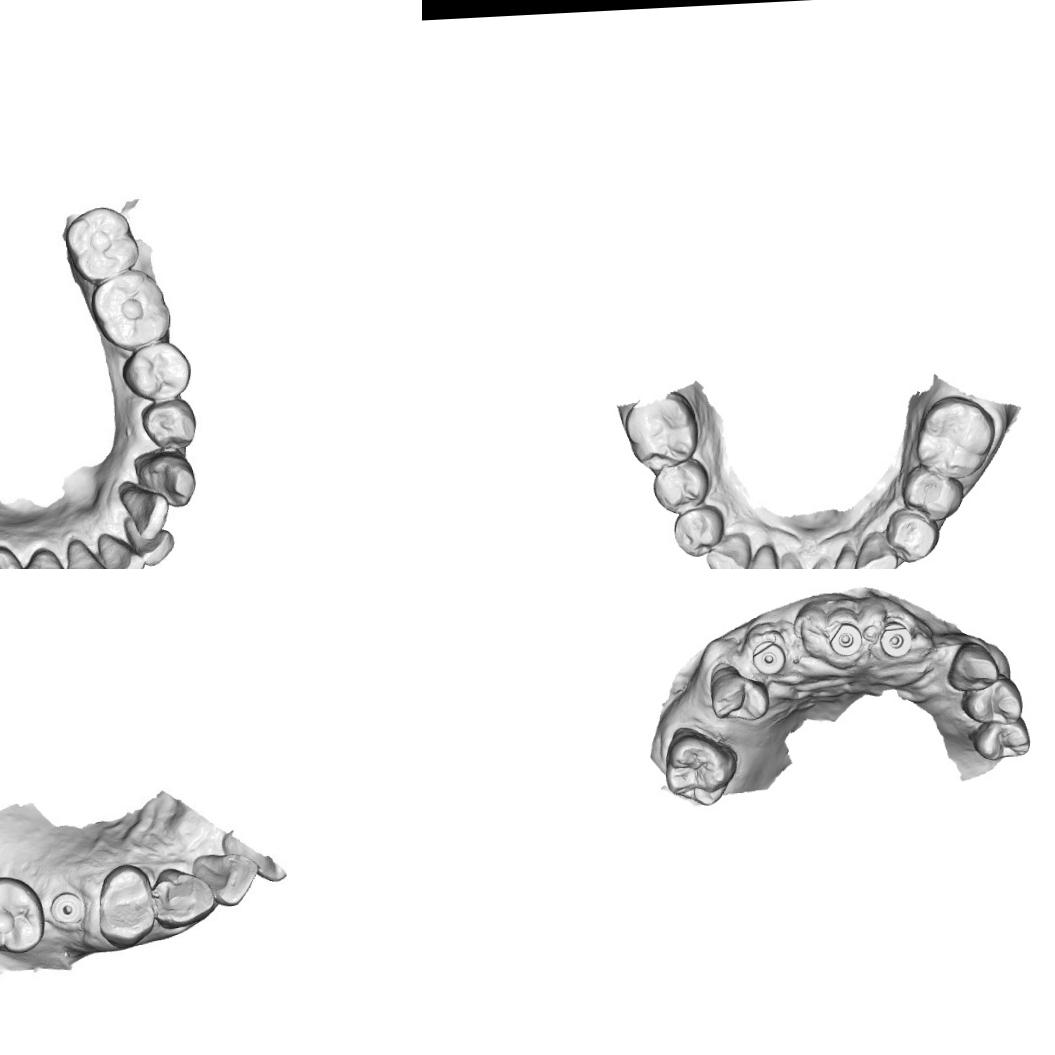canine: (152, 864, 216, 930), (138, 449, 199, 510), (942, 634, 1000, 694), (702, 529, 754, 569), (851, 527, 899, 569), (17, 543, 71, 569)
implant: (46, 888, 86, 932), (824, 616, 866, 657), (877, 616, 912, 660), (750, 638, 788, 676)
incisor: (192, 851, 260, 907), (121, 513, 178, 569), (122, 481, 170, 536), (97, 525, 150, 569), (59, 536, 107, 569), (737, 542, 781, 569), (822, 540, 862, 569), (766, 548, 808, 569), (801, 552, 841, 569)
molar: (912, 392, 997, 480), (622, 388, 700, 474), (660, 726, 740, 809), (67, 204, 139, 286), (96, 273, 167, 347), (0, 873, 43, 951)
premolar: (93, 861, 155, 947), (118, 336, 196, 400), (706, 658, 773, 724), (899, 461, 966, 524), (650, 454, 711, 515), (974, 714, 1038, 770), (882, 505, 942, 563), (670, 502, 727, 559), (138, 396, 197, 450), (956, 678, 1022, 722)
